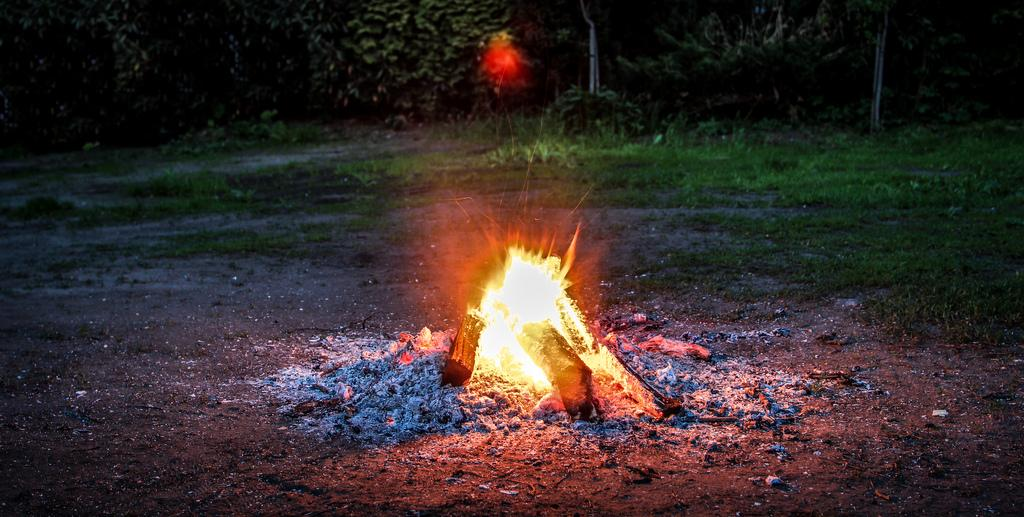fire: (478, 258, 561, 372)
